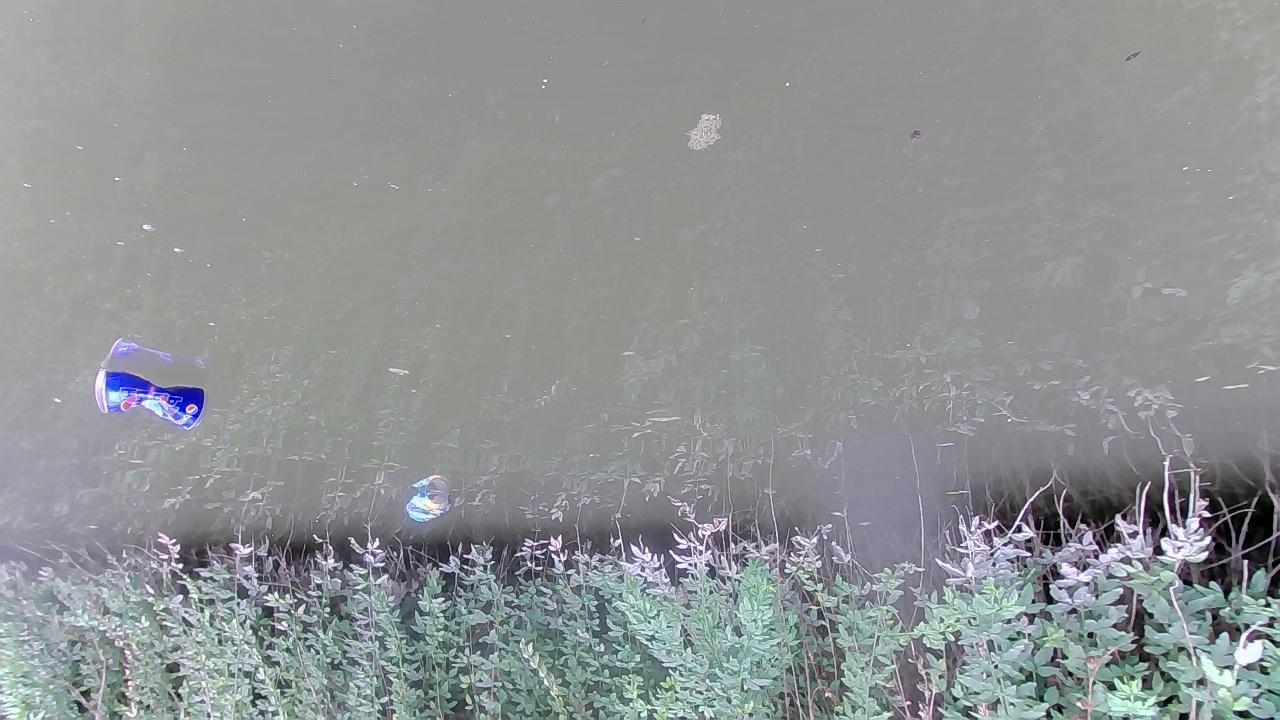Metal: (93, 366, 207, 433), (403, 476, 454, 524)
